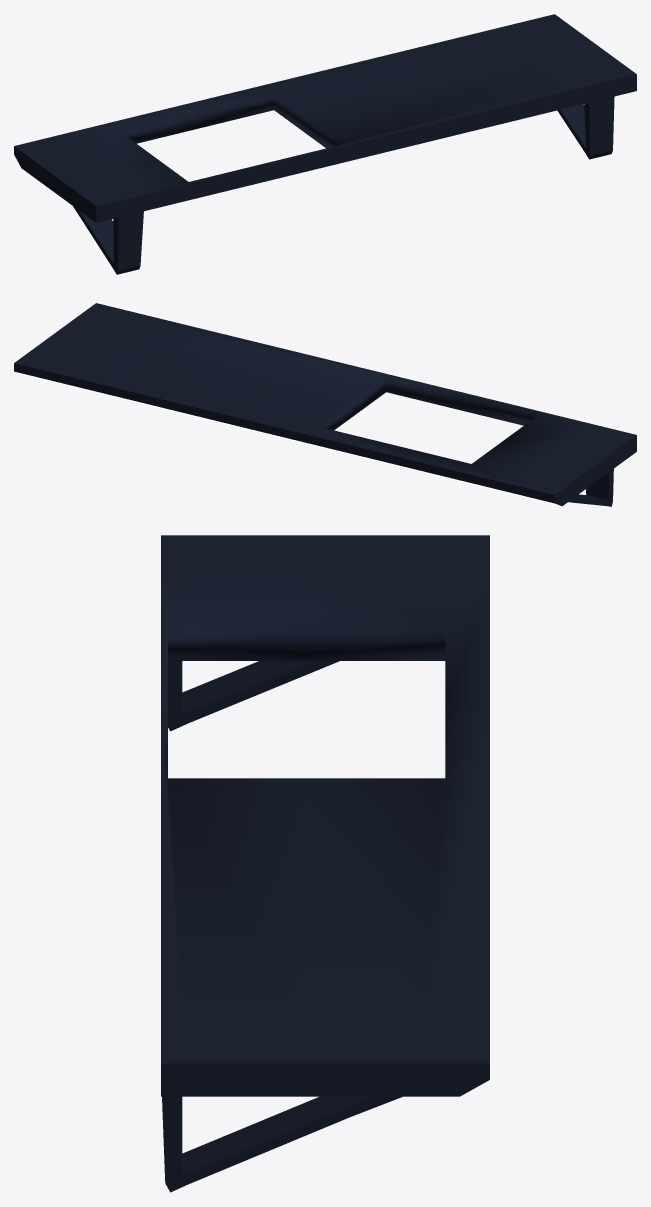
Rendered from prateleirasubida2.fbx.
3 renders of one model, top to bottom at view 1: azimuth 30°, elevation 25°; view 2: azimuth 150°, elevation 25°; view 3: azimuth 270°, elevation 25°, orthographic. The views are drawn at different scales.
Visible parts, largest first — view 1: PrateleiraB.002; view 2: PrateleiraB.002; view 3: PrateleiraB.002.
Boxes of the visible parts, bbox=[...] form: PrateleiraB.002: bbox=[14, 14, 636, 274]; PrateleiraB.002: bbox=[14, 303, 636, 506]; PrateleiraB.002: bbox=[161, 535, 489, 1192].
Bounding box in the file's own units: 108 × 14.53 × 28.53.
